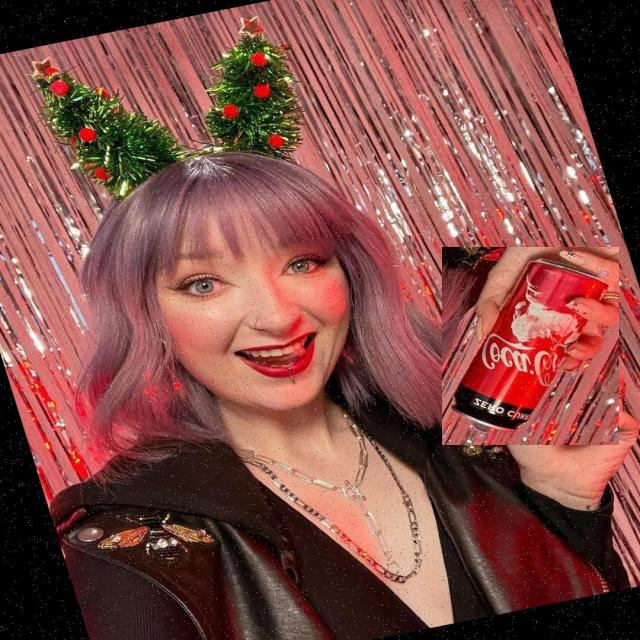coca-cola: (442, 247, 619, 445)
